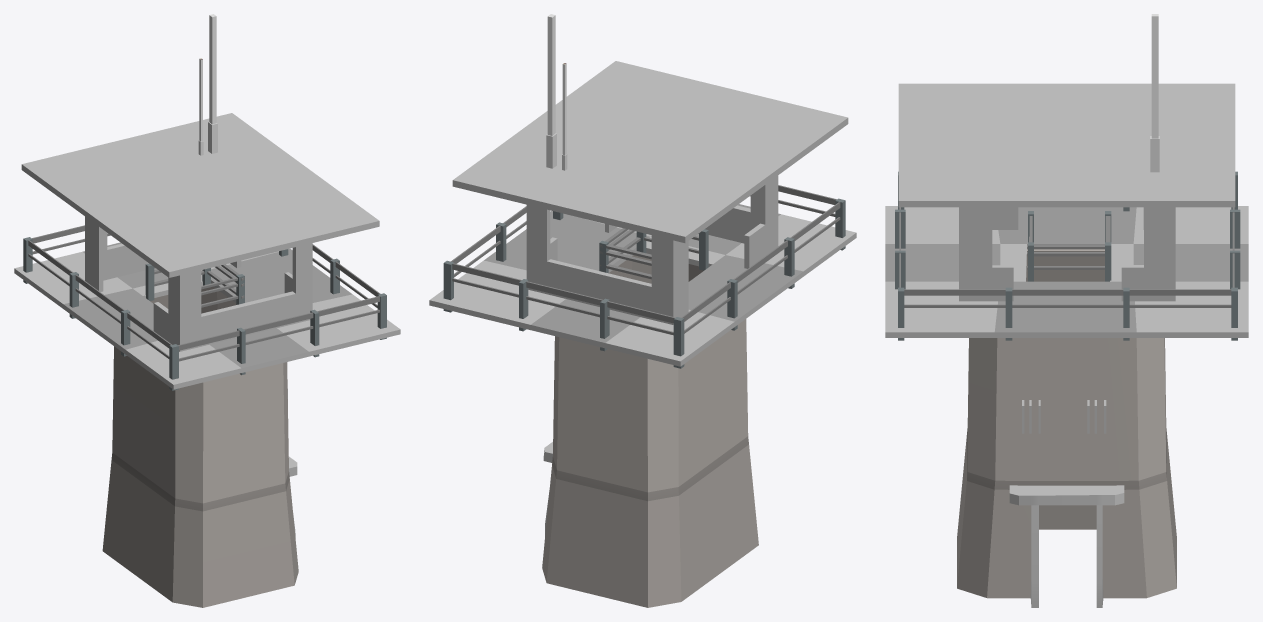
The model's file is Jail_GuardPost_Concrete.fbx.
The picture shows the model from 3 angles, left to right: view 1: azimuth 30°, elevation 25°; view 2: azimuth 150°, elevation 25°; view 3: azimuth 270°, elevation 25°; orthographic projection. The views are drawn at different scales.
Parts seen in each view (by area): view 1: Jail_GuardPost_Concrete; view 2: Jail_GuardPost_Concrete; view 3: Jail_GuardPost_Concrete.
Boxes of the visible parts, <box> form: Jail_GuardPost_Concrete: <box>14,14,400,607</box>; Jail_GuardPost_Concrete: <box>429,14,856,607</box>; Jail_GuardPost_Concrete: <box>885,14,1248,607</box>.
Size of the model in its own units: 10 by 21.27 by 12.14.
1 material, 1 textured.
